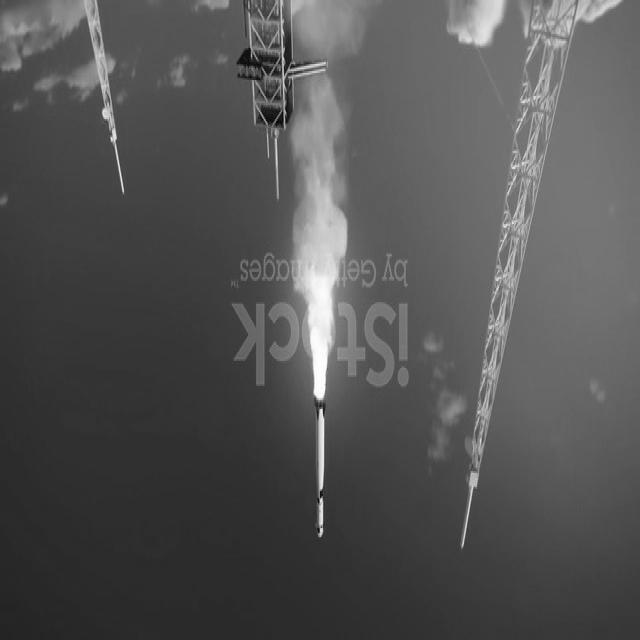missile: (310, 384, 328, 548)
